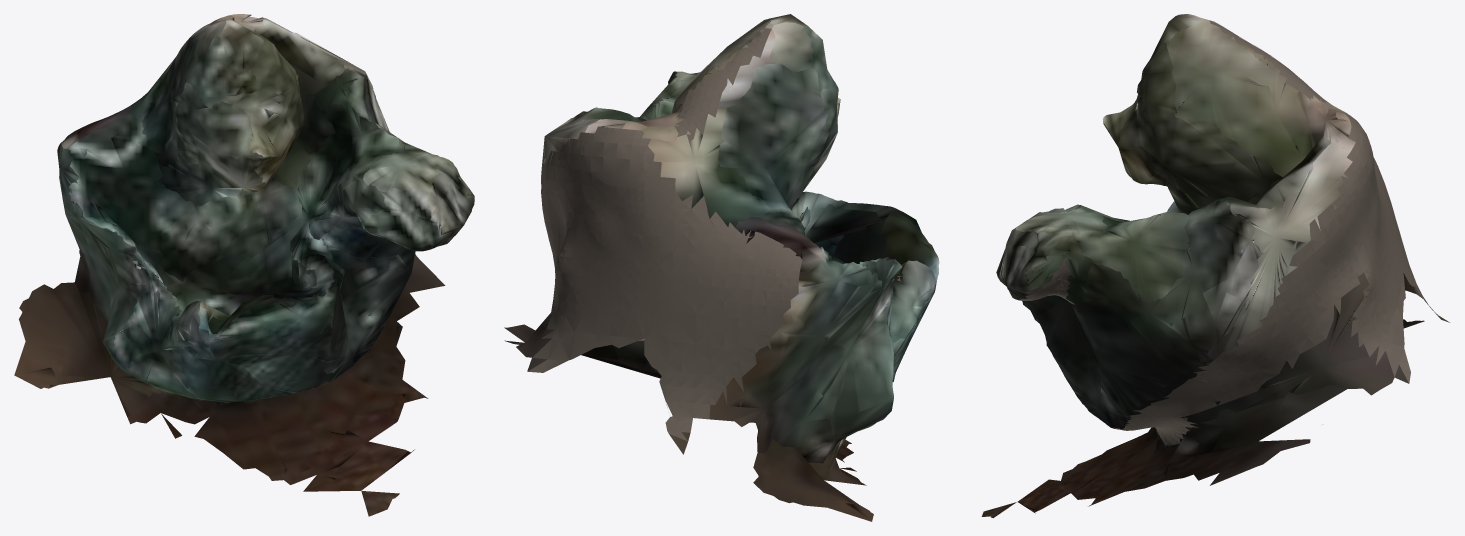
File: dumpy.obj
The picture shows the model from 3 angles, left to right: view 1: azimuth 30°, elevation 25°; view 2: azimuth 150°, elevation 25°; view 3: azimuth 270°, elevation 25°; orthographic projection. The views are drawn at different scales.
Bounding box in the file's own units: 15.75 × 17.62 × 16.26.
Materials: 1 (1 with a texture image).
